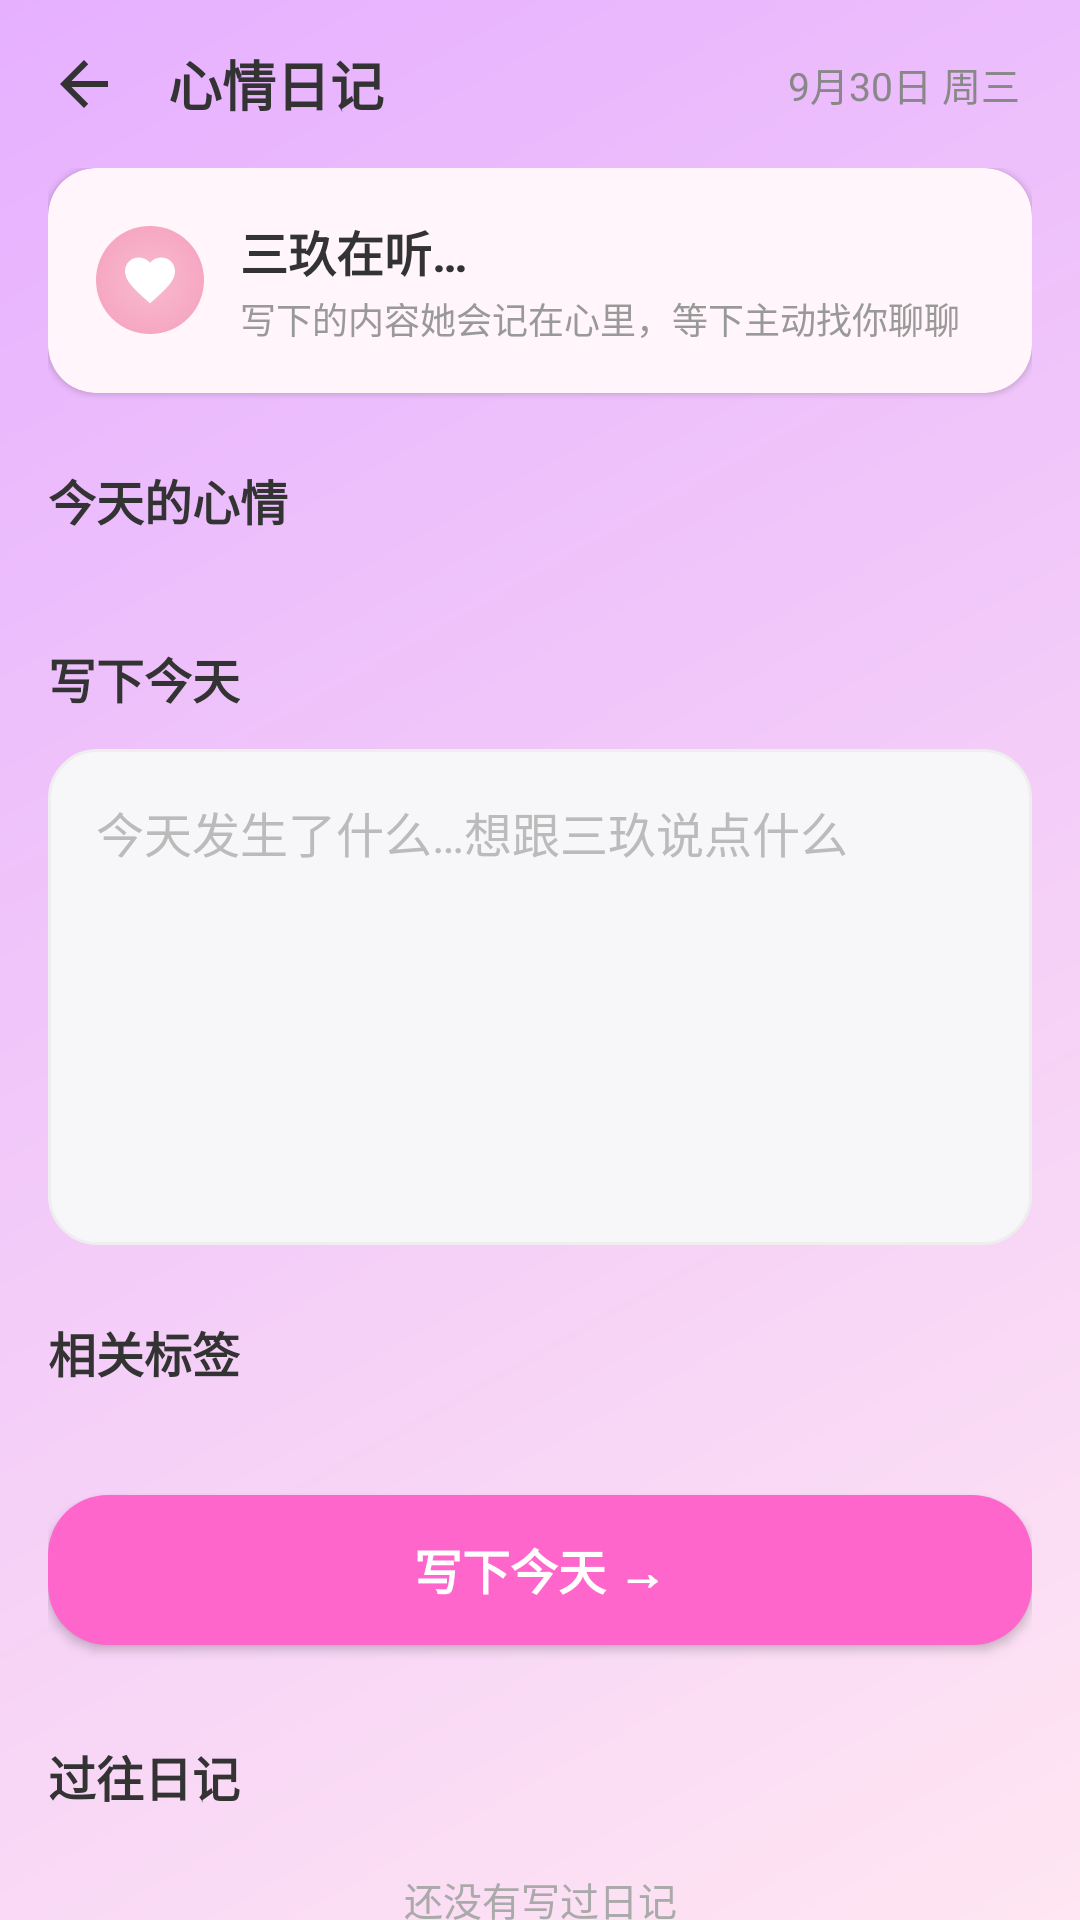

Icon click points for this 1080px×1920px phone screenshot, format (x=x, y=y):
heart: (x=150, y=280)
返回: (x=84, y=84)
